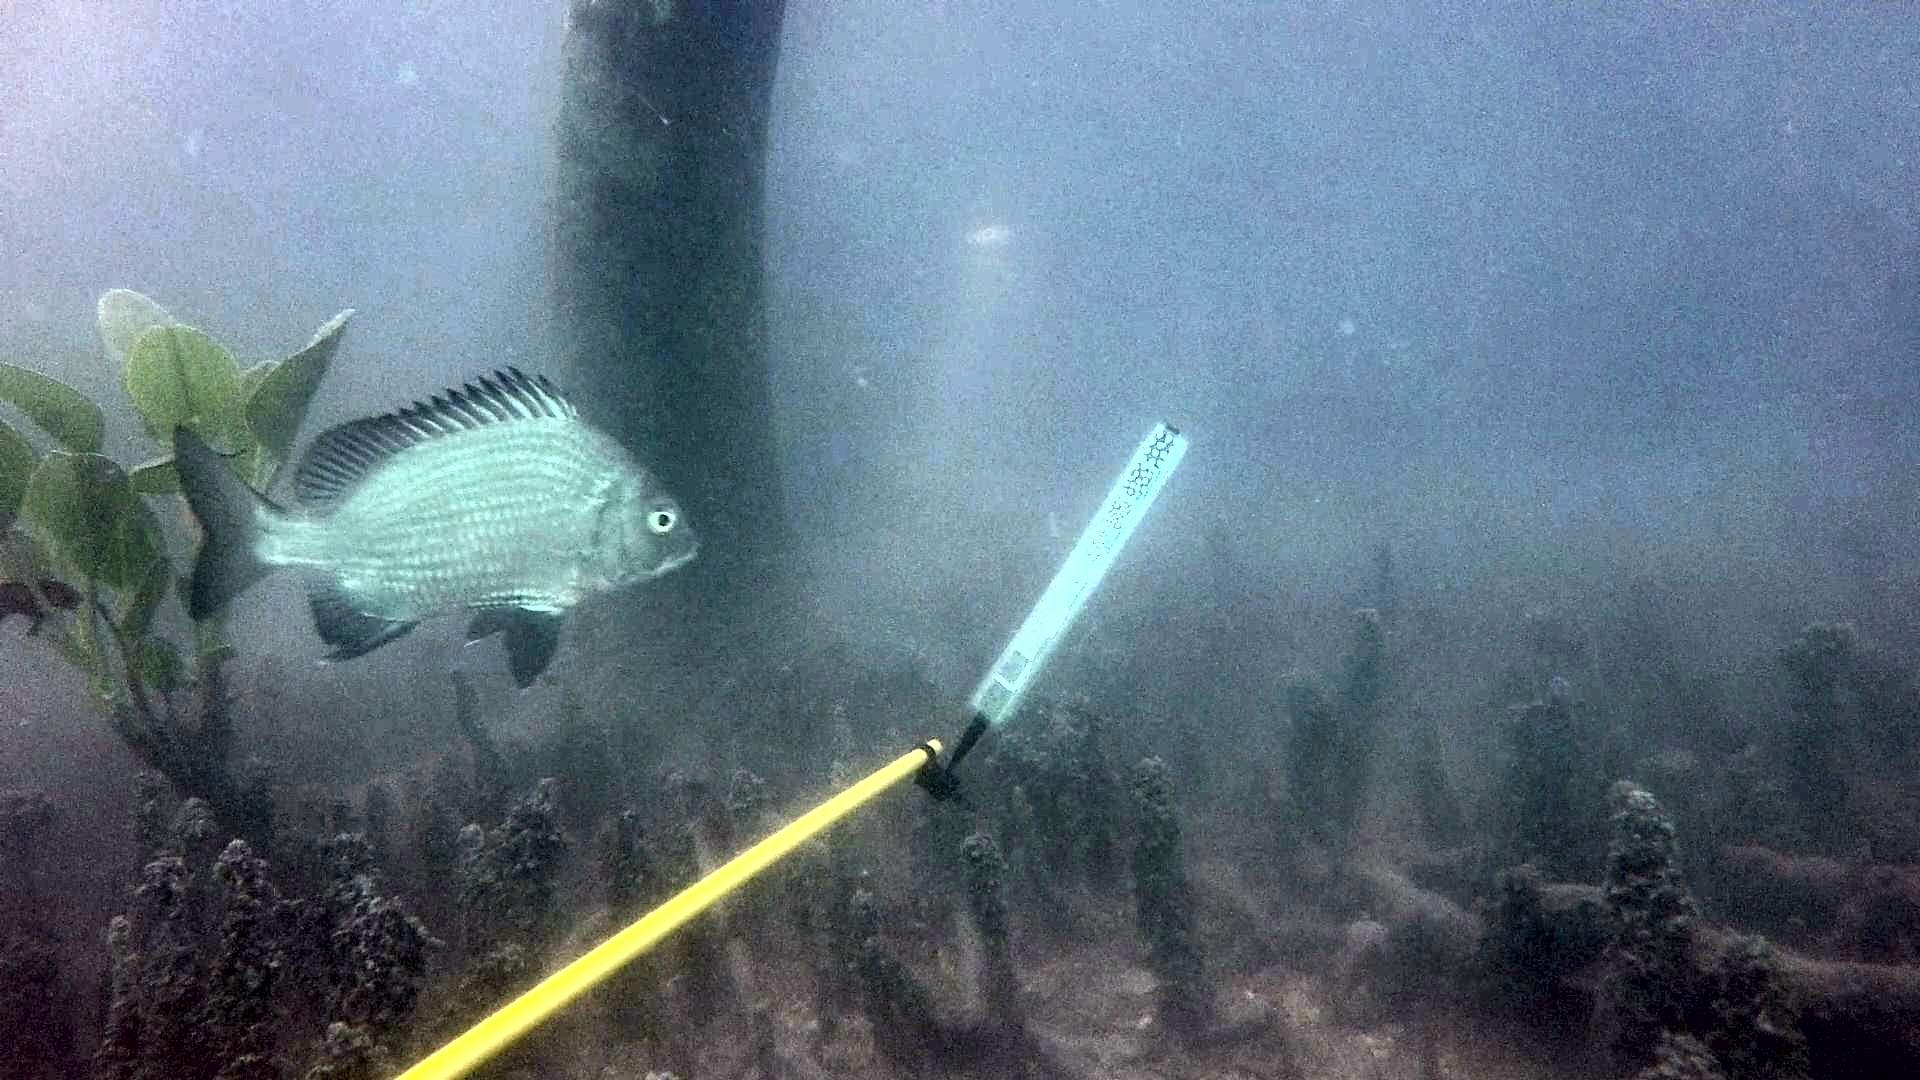acanthopagrus palmaris: (164, 353, 704, 692)
